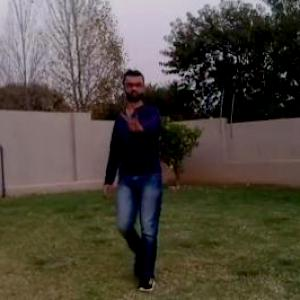takeoff-hand: (118, 106, 149, 136)
